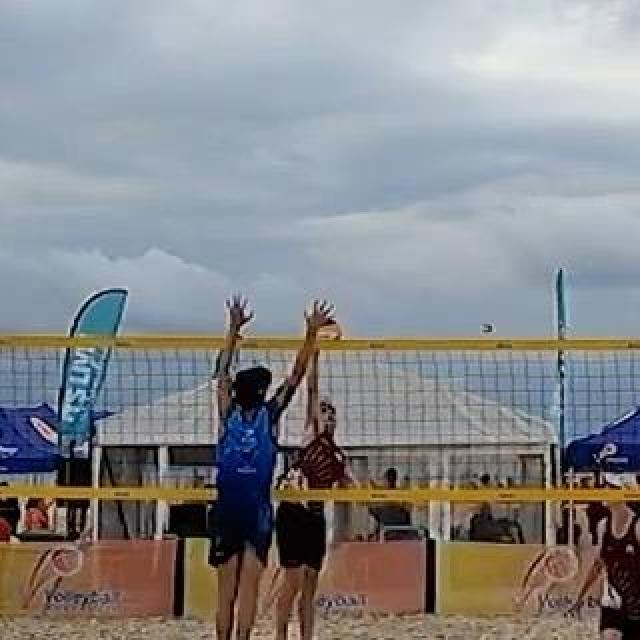volleyball: (309, 316, 341, 350)
